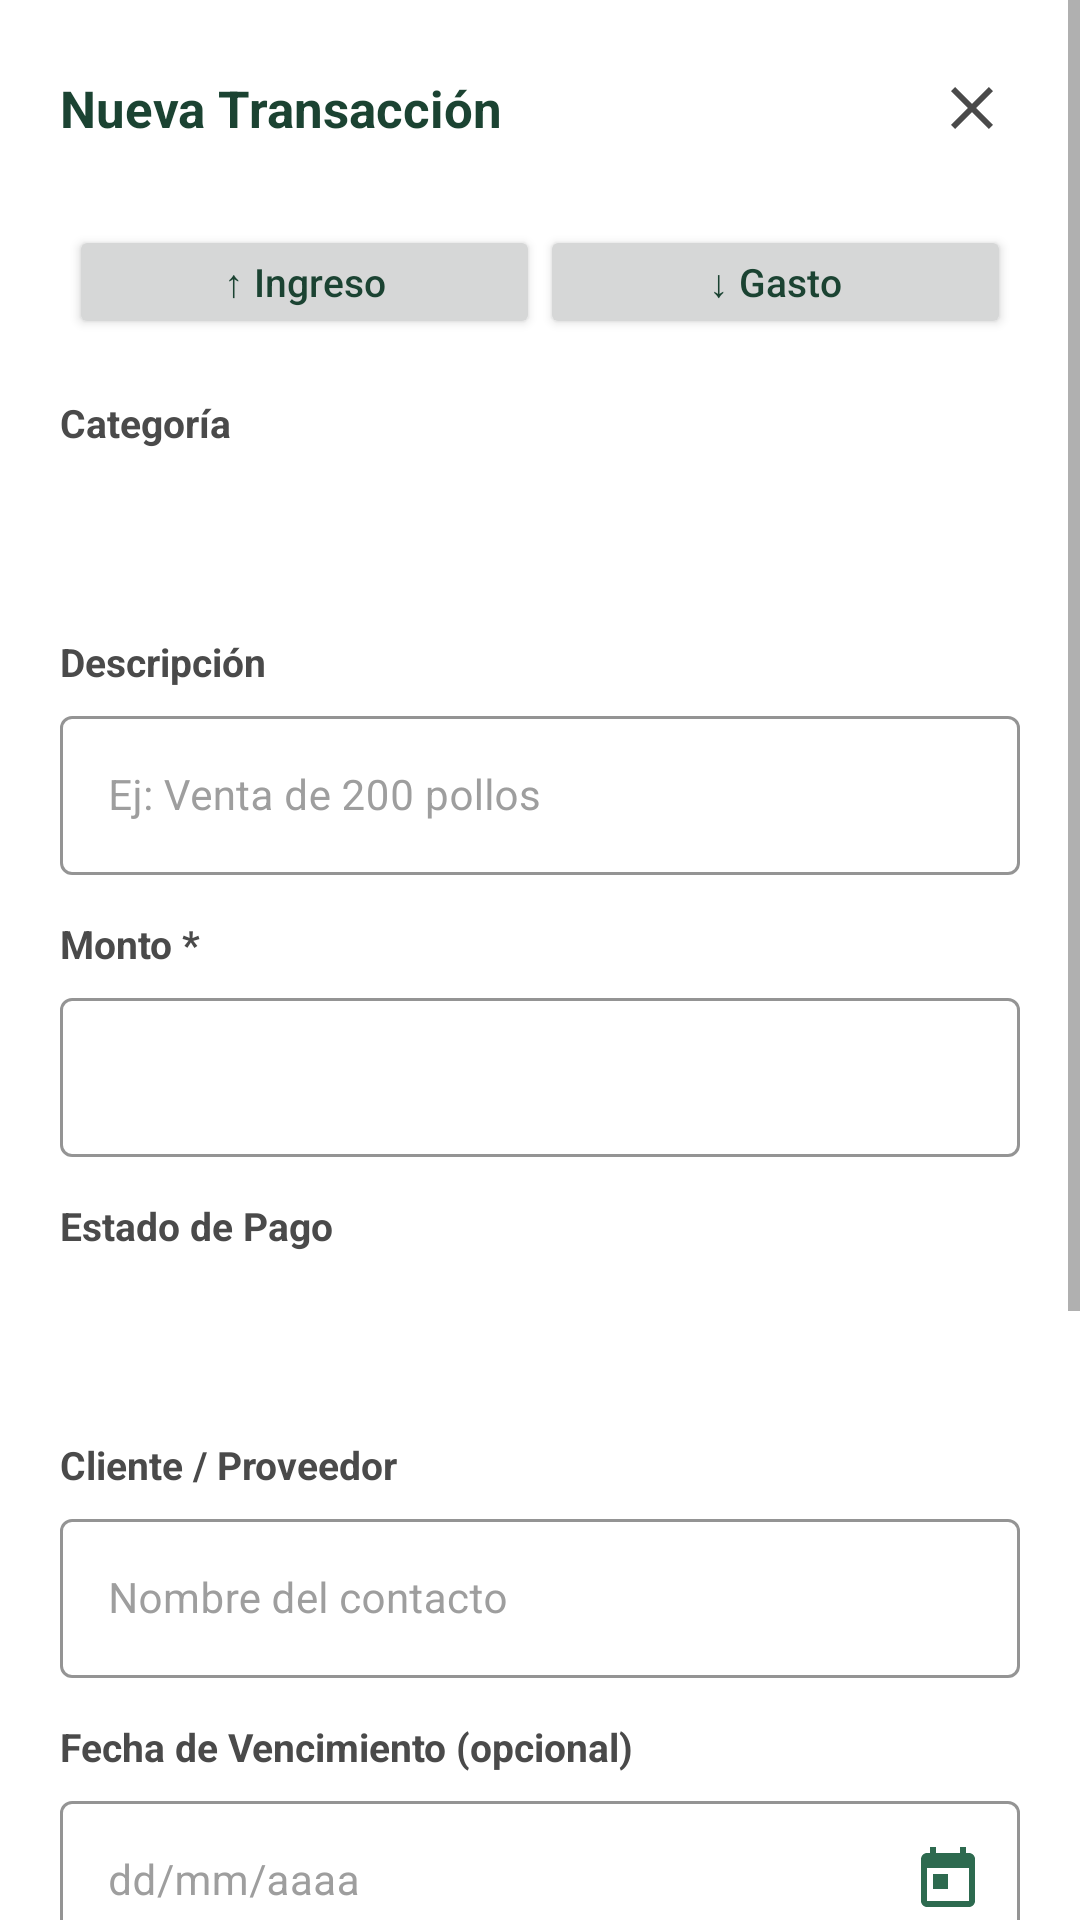

Icons on this 1080px×1920px Android screen, each with the point to tap as (x,y):
Cerrar: (972,108)
